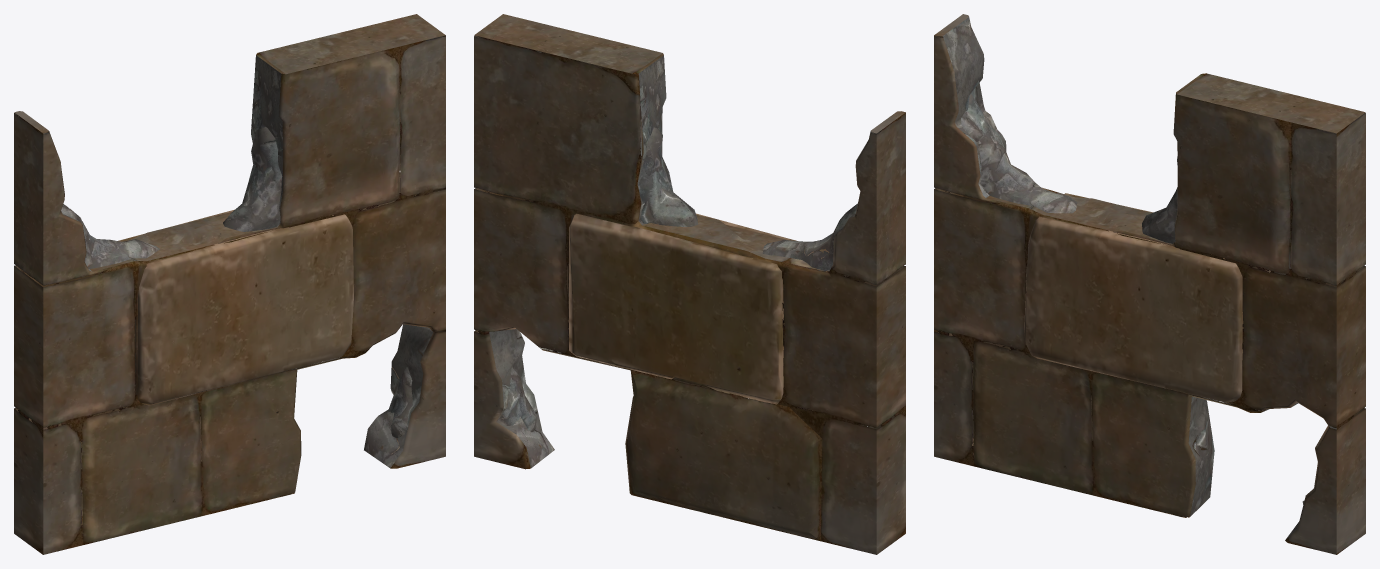
3 views of the same model, side by side, from view 1: azimuth 30°, elevation 25°; view 2: azimuth 150°, elevation 25°; view 3: azimuth 330°, elevation 25° (orthographic).
Parts seen in each view (by area): view 1: SM_Vault_4x4_Dmg_Wall_01_V2_LOD0; view 2: SM_Vault_4x4_Dmg_Wall_01_V2_LOD0; view 3: SM_Vault_4x4_Dmg_Wall_01_V2_LOD0.
Boxes of the visible parts, left/top/right/bottom form: SM_Vault_4x4_Dmg_Wall_01_V2_LOD0: left=14, top=14, right=445, bottom=554; SM_Vault_4x4_Dmg_Wall_01_V2_LOD0: left=474, top=14, right=905, bottom=554; SM_Vault_4x4_Dmg_Wall_01_V2_LOD0: left=934, top=14, right=1365, bottom=554.
Bounding box in the file's own units: 4 × 4 × 0.6797.
Materials: 3 (3 with a texture image).
